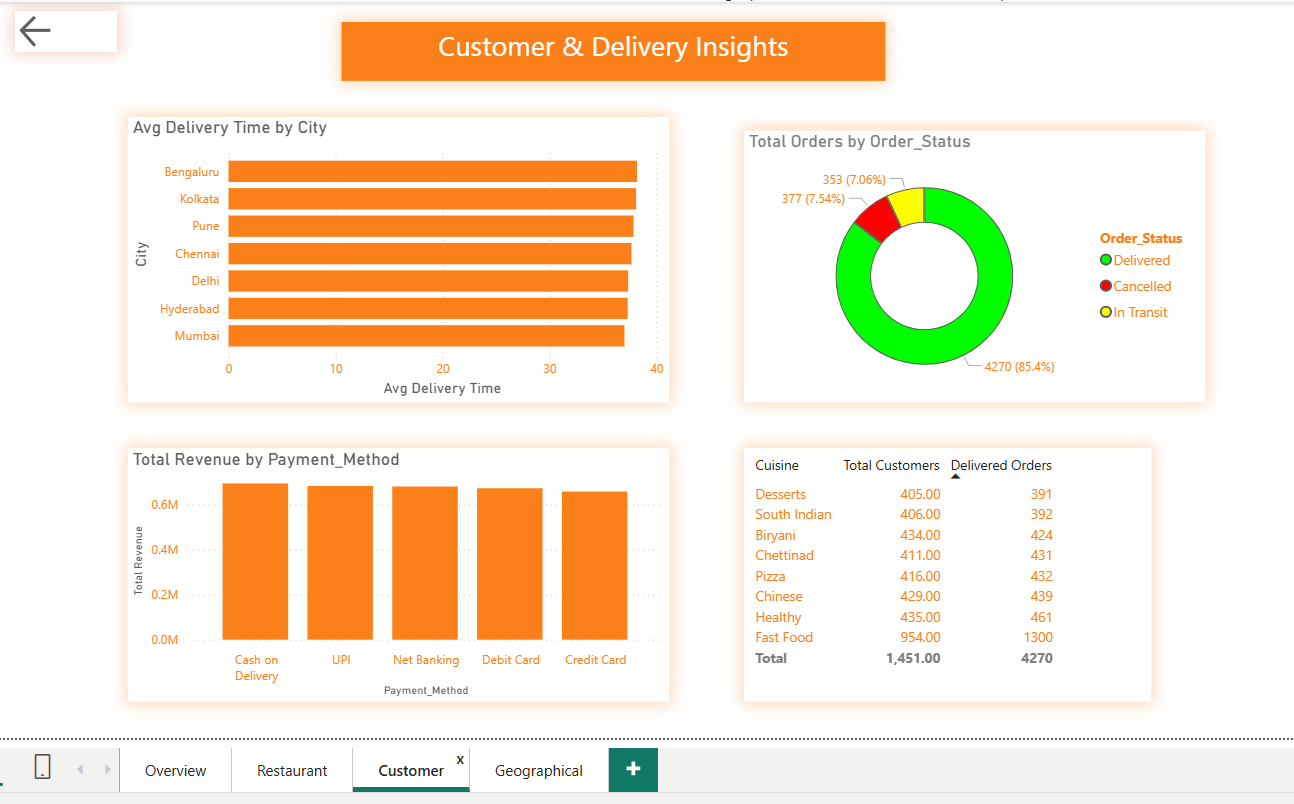

What the dashboard file says about the page in this screenshot:
{"tool":"powerbi","page":{"name":"Customer","canvas":[1280,720],"ordinal":2},"visuals":[{"type":"textbox","box":[339.9,19.6,531.9,57.5],"z":0},{"type":"donutChart","fields":{"Category":["swiggy_synthetic_dataset_5000.Order_Status"],"Y":["swiggy_synthetic_dataset_5000.Total Orders"]},"box":[733.7,126,451.2,265.4],"z":1000},{"type":"barChart","fields":{"Category":["swiggy_synthetic_dataset_5000.City"],"Y":["swiggy_synthetic_dataset_5000.Avg Delivery Time"]},"box":[130.8,112.5,529.5,278.8],"z":2000},{"type":"clusteredColumnChart","fields":{"Category":["swiggy_synthetic_dataset_5000.Payment_Method"],"Y":["swiggy_synthetic_dataset_5000.Total Revenue"]},"box":[130.8,436.6,529.5,248.2],"z":3000},{"type":"tableEx","fields":{"Values":["swiggy_synthetic_dataset_5000.Cuisine","swiggy_synthetic_dataset_5000.Total Customers","swiggy_synthetic_dataset_5000.Delivered Orders"]},"box":[733.7,436.6,398.6,248.2],"z":4000},{"type":"actionButton","box":[20.8,8.6,100.3,40.4],"z":5000}]}

Visuals, with their boxes on the page's 1280x720 design canvas (x1, y1, x2, y2). These are canvas units, not pixel positions in the 1294x804 screenshot, which may show the page scaled, cropped or inside an application window:
textbox: 340, 20, 872, 77
donutChart - swiggy_synthetic_dataset_5000.Order_Status x swiggy_synthetic_dataset_5000.Total Orders: 734, 126, 1185, 391
barChart - swiggy_synthetic_dataset_5000.City x swiggy_synthetic_dataset_5000.Avg Delivery Time: 131, 112, 660, 391
clusteredColumnChart - swiggy_synthetic_dataset_5000.Payment_Method x swiggy_synthetic_dataset_5000.Total Revenue: 131, 437, 660, 685
tableEx - swiggy_synthetic_dataset_5000.Cuisine x swiggy_synthetic_dataset_5000.Total Customers: 734, 437, 1132, 685
actionButton: 21, 9, 121, 49
